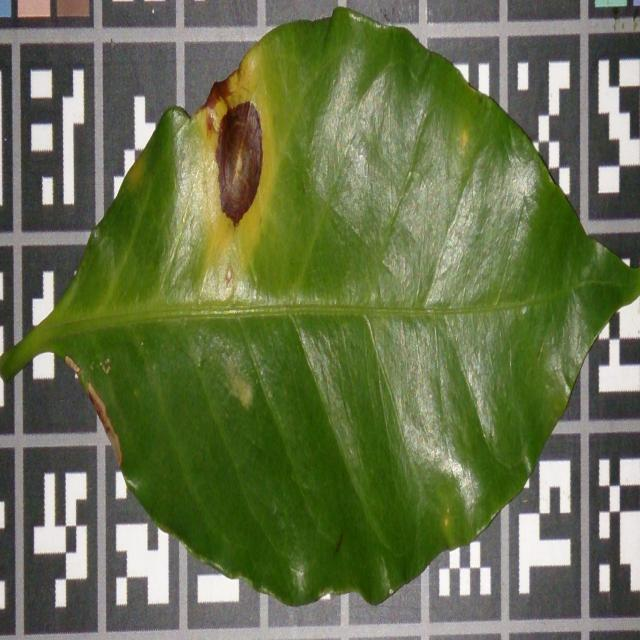Enfermedad-Mancha-de-hierro: (0, 7, 640, 608)
